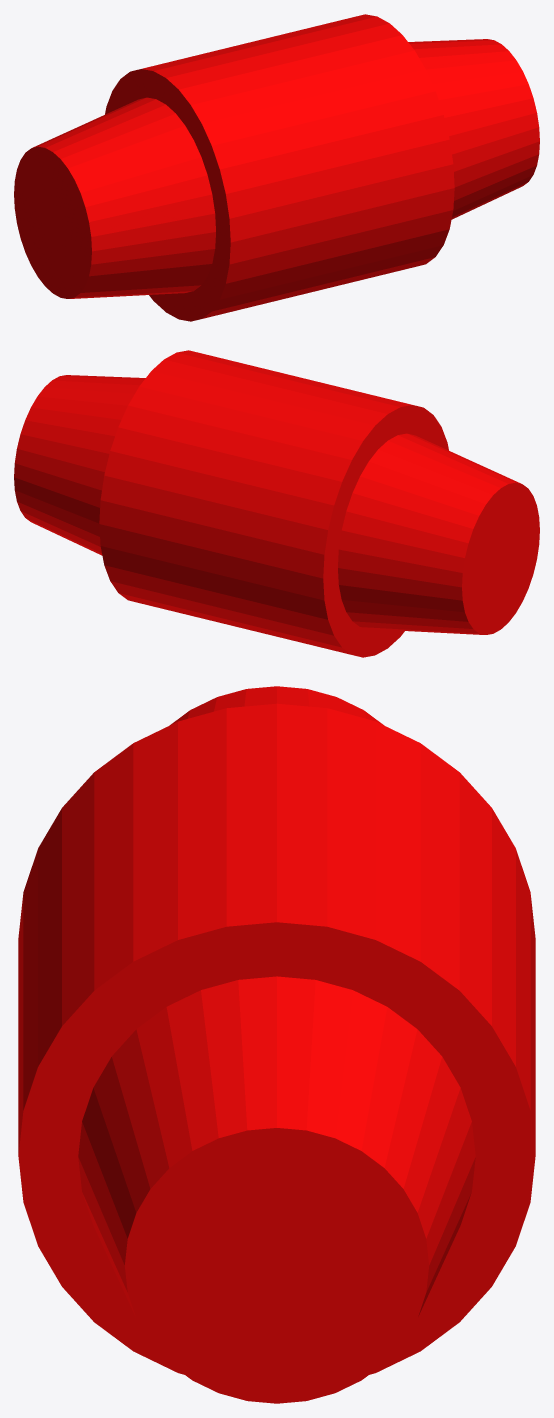
Rendered from Torpedo.obj.
3 views of the same model, one above another, from view 1: azimuth 30°, elevation 25°; view 2: azimuth 150°, elevation 25°; view 3: azimuth 270°, elevation 25° (orthographic). The views are drawn at different scales.
Visible parts, largest first — view 1: Cylinder; view 2: Cylinder; view 3: Cylinder.
Part boxes in pixels (box(x1,y1,x2,y2)): Cylinder: box(14, 14, 539, 321); Cylinder: box(14, 350, 539, 657); Cylinder: box(18, 686, 535, 1403).
Size of the model in its own units: 4.01 by 2 by 2.
